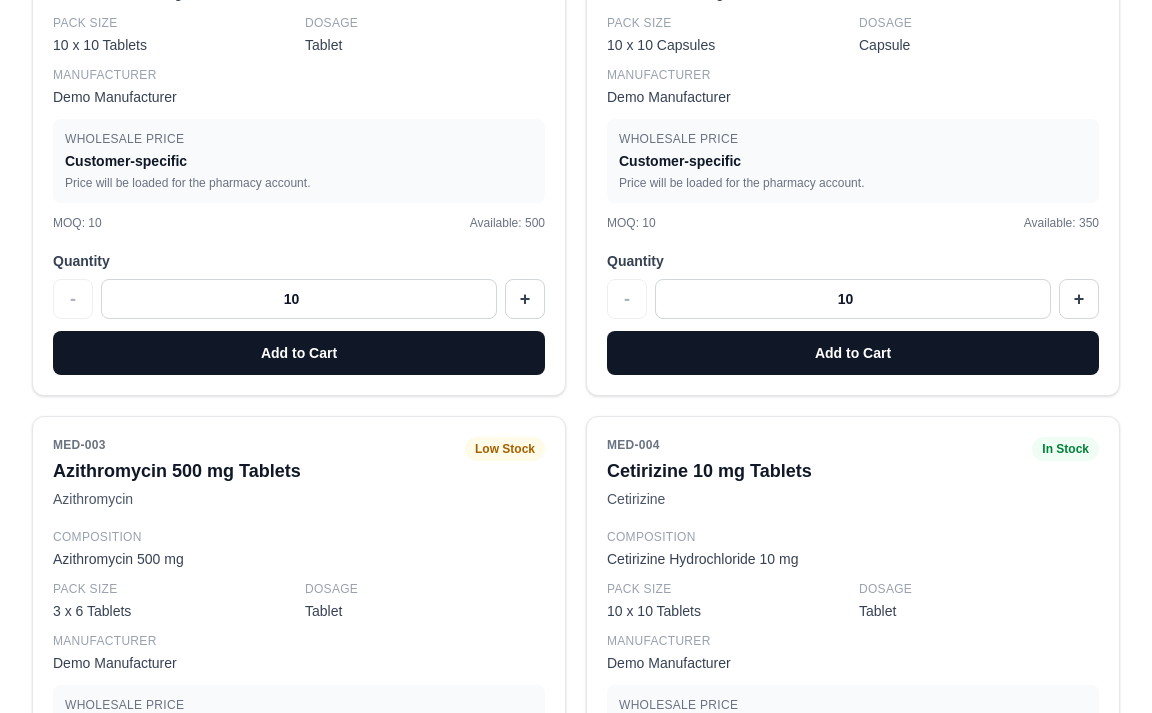
Scenario: Pharmacy Product Search Portal › respects minimum order quantity
The width and height of the screenshot is (1152, 713).
(page scrolled)
Expected: the number field named "Quantity for Paracetamol 500 mg Tablets" holds "10", [101,279,497,319]
Click the button with aria-label "Add Paracetamol 500 mg Tablets to cart" at {"x": 299, "y": 353}, box [53,331,545,375]
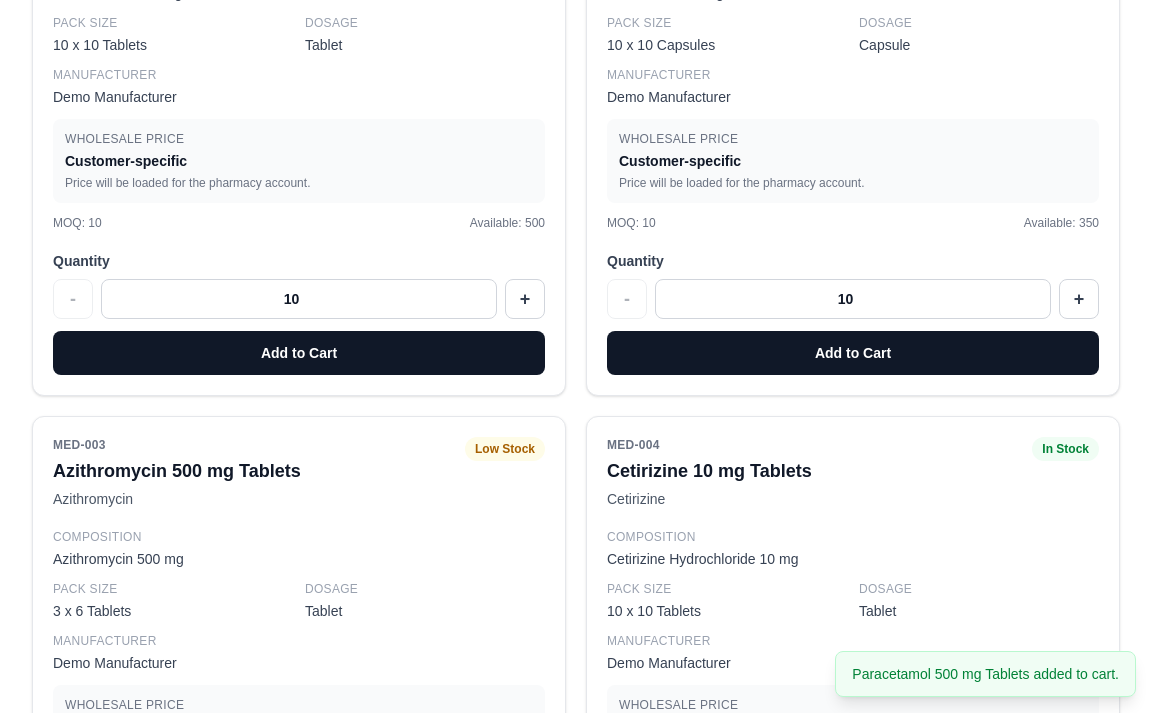
Expected: the message reads "Paracetamol 500 mg Tablets added to cart.", [852,666,1119,682]
